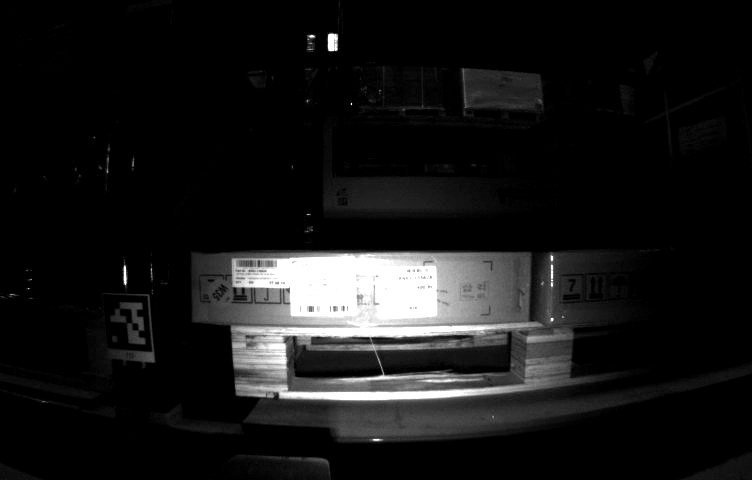True Barcode: (376, 268, 436, 317)
